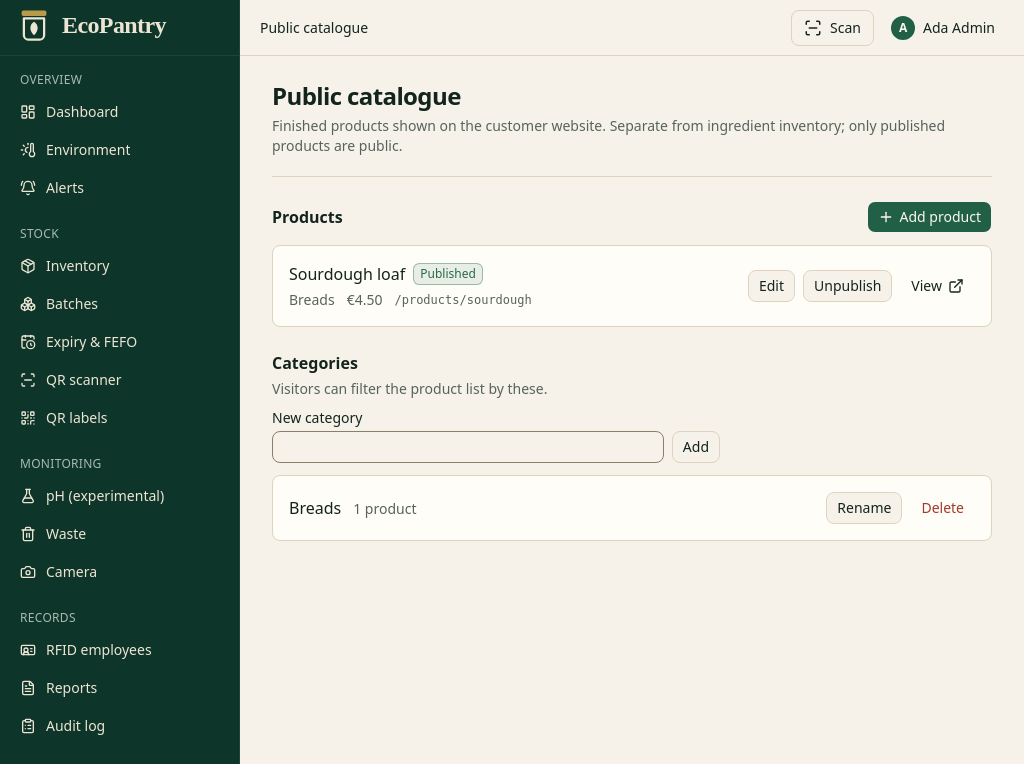
it: portal catalogue page › checks the form before sending anything
Expected: the text "Sourdough loaf" is shown, [289, 262, 405, 286]
Click the button "Add product" at (929, 217), box [867, 201, 992, 233]
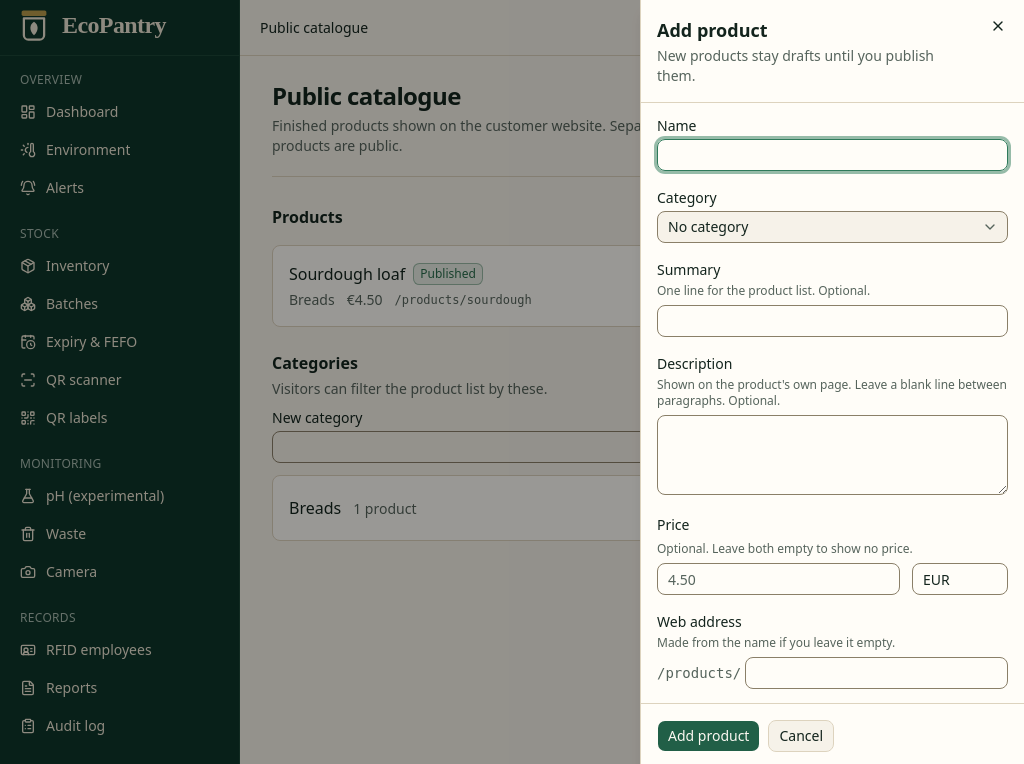
Clear the field named "Currency code" at (960, 579), box [912, 563, 1008, 595]
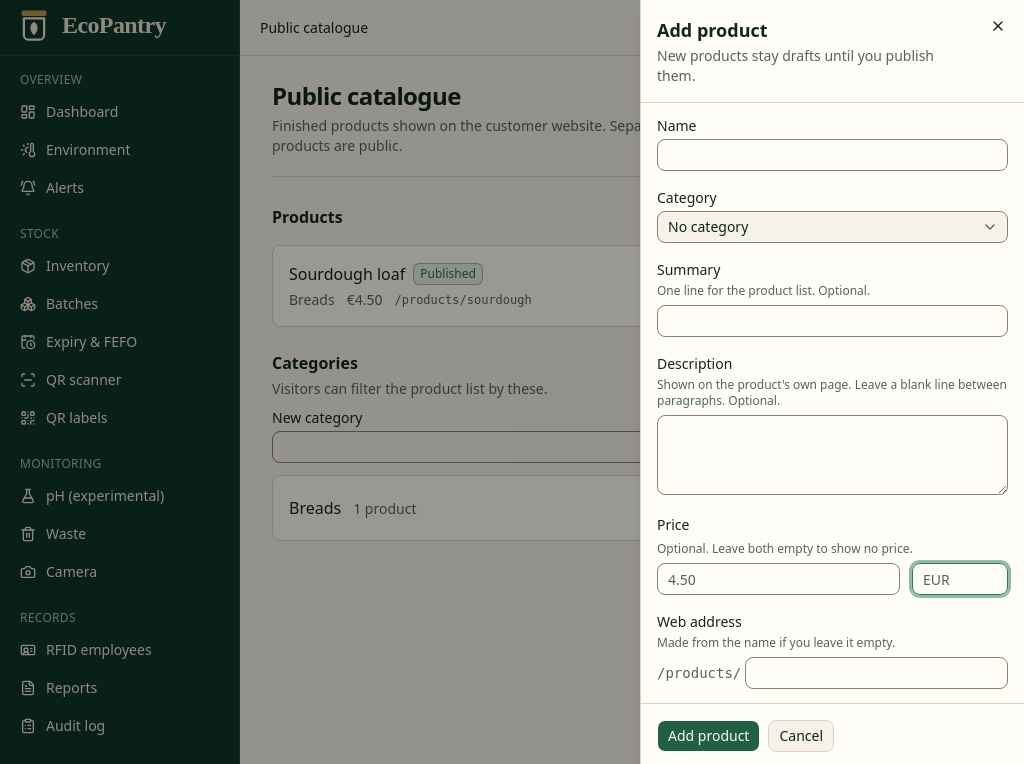
Type "3" into the field named "Amount" at (778, 579), box [657, 563, 900, 595]
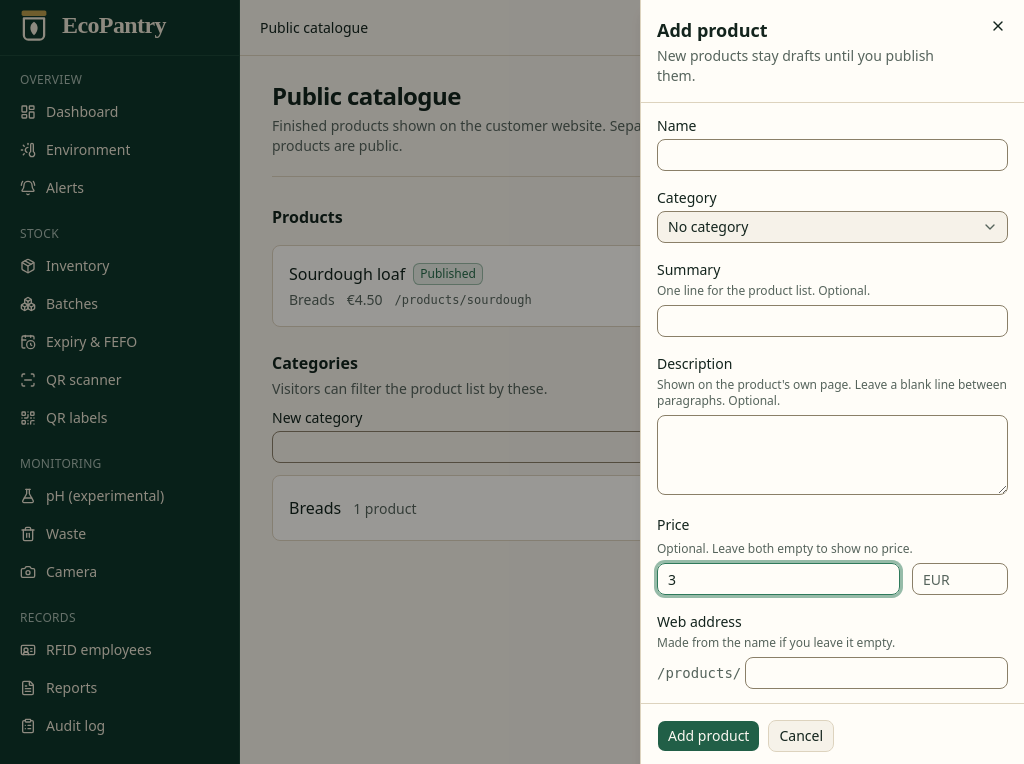
Click the button "Add product" at (709, 736), box [657, 720, 760, 752]
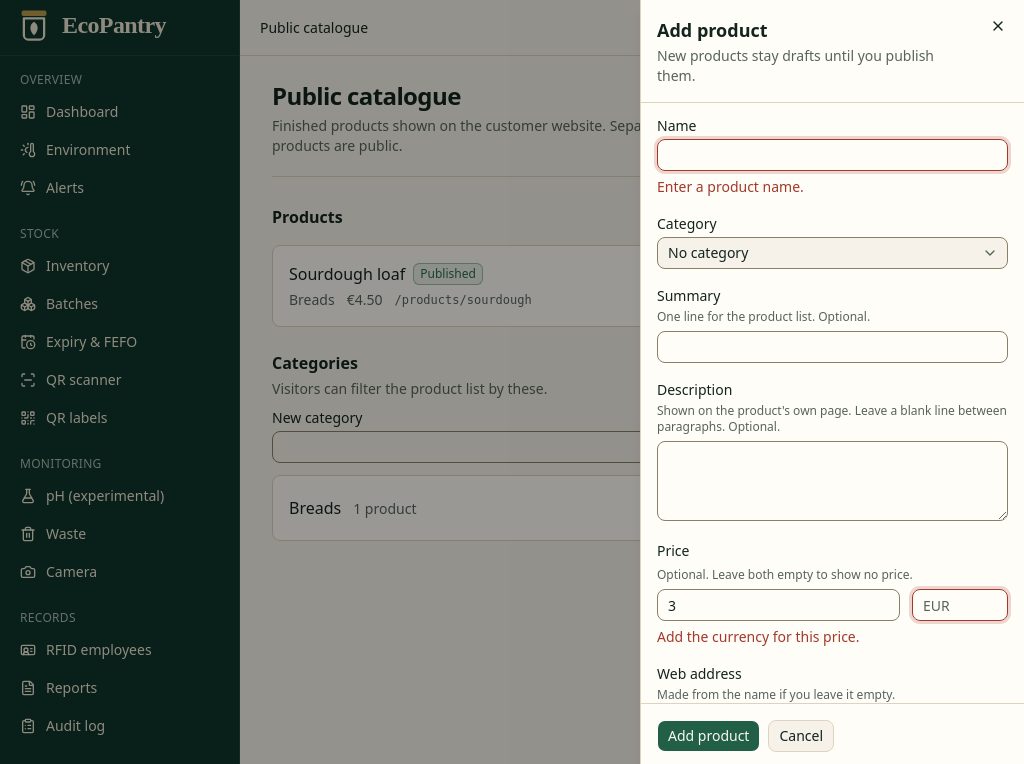
Now the text "Enter a product name." is shown, box [657, 177, 804, 196]
Now the text "Add the currency for this price." is shown, box [657, 627, 860, 646]
